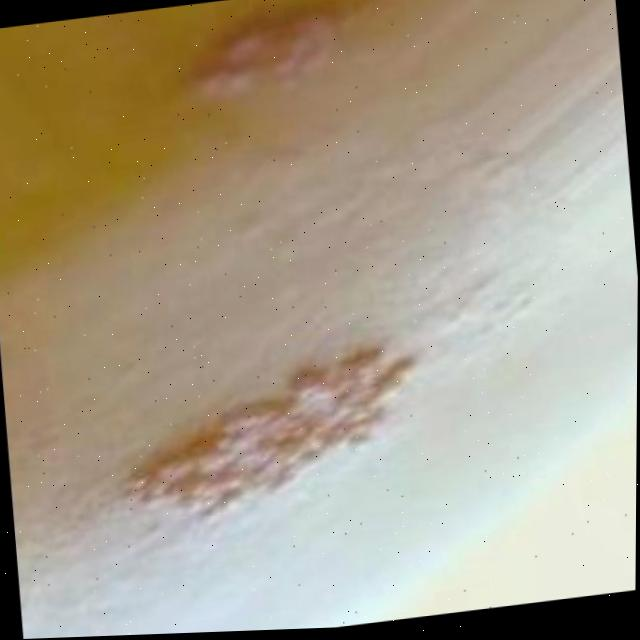Shingles: (114, 325, 417, 536), (189, 1, 354, 106)
